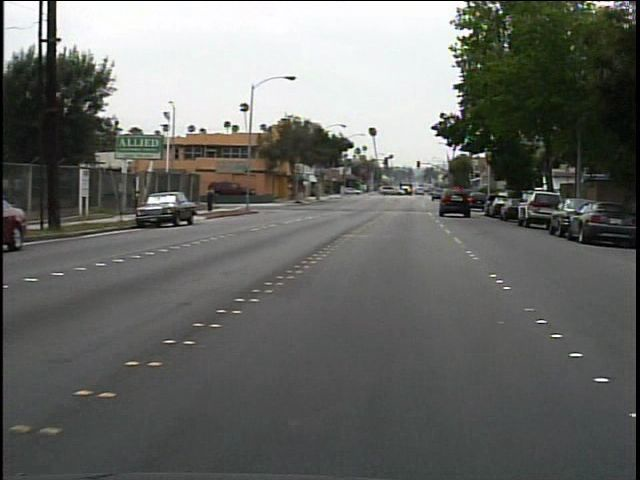person: (208, 182, 224, 215)
